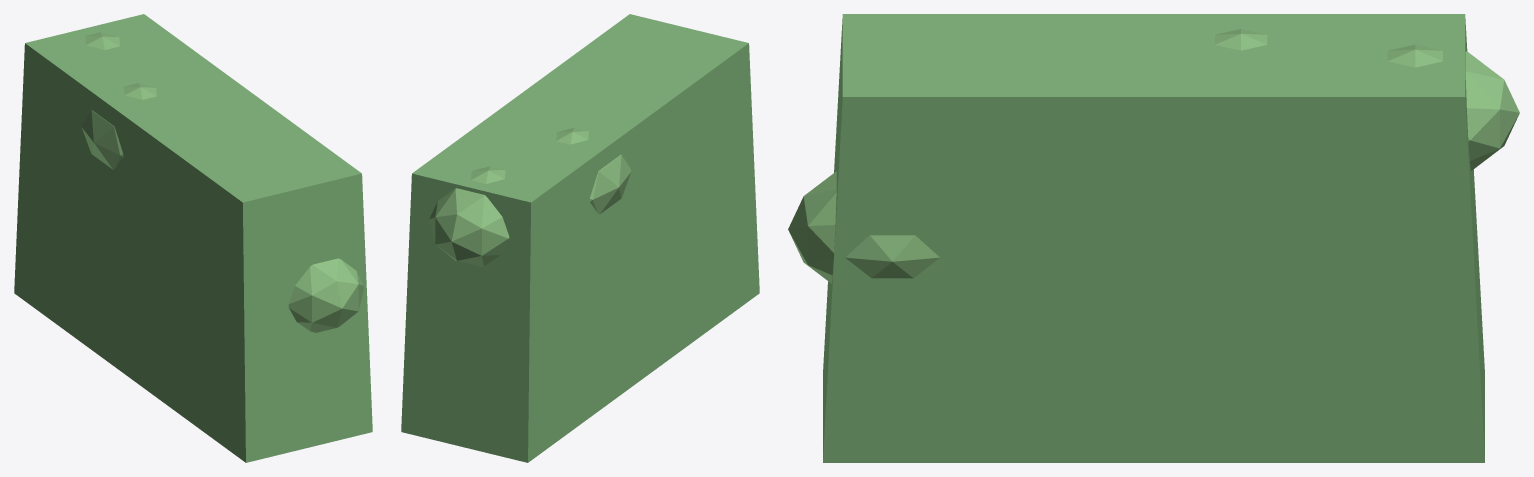
Rendered from hedge.glb.
The picture shows the model from 3 angles, left to right: view 1: azimuth 30°, elevation 25°; view 2: azimuth 150°, elevation 25°; view 3: azimuth 270°, elevation 25°; orthographic projection. The views are drawn at different scales.
Bounding box in the file's own units: 0.6451 × 1.17 × 2.1.
